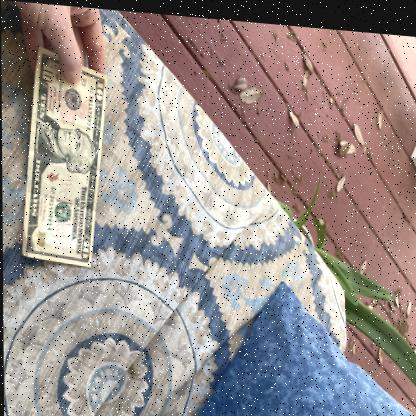ten-front: (19, 48, 108, 267)
